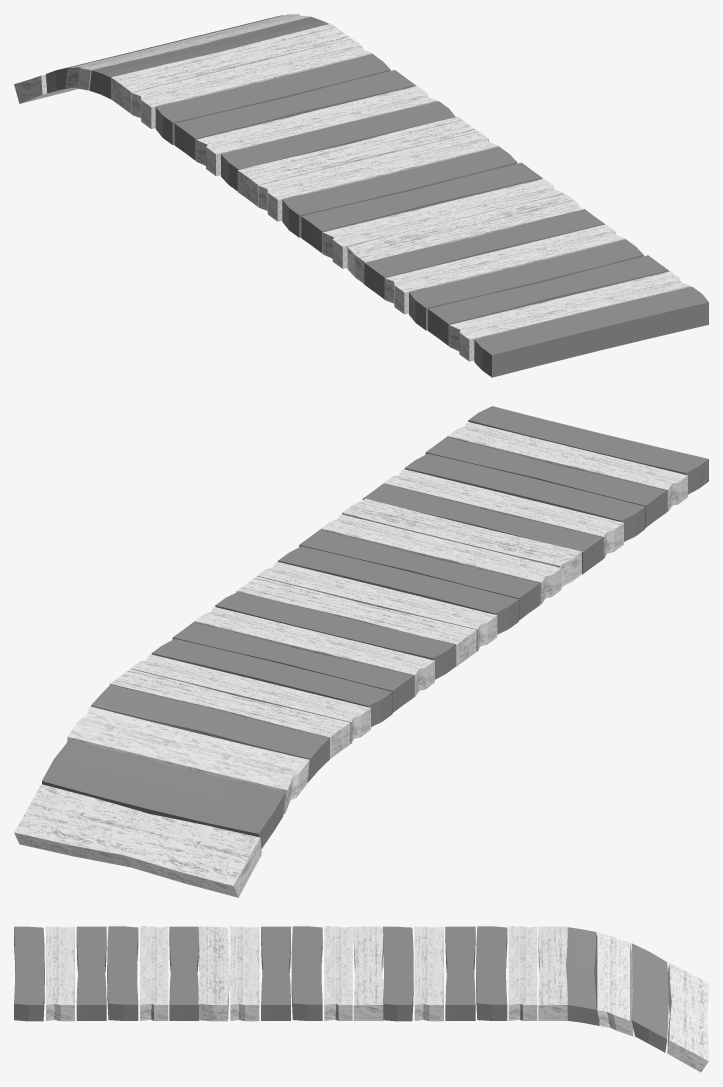
File: qiao1.FBX
The picture shows the model from 3 angles, top to bottom: view 1: azimuth 30°, elevation 25°; view 2: azimuth 150°, elevation 25°; view 3: azimuth 270°, elevation 25°; orthographic projection. The views are drawn at different scales.
Parts seen in each view (by area): view 1: qiao1; view 2: qiao1; view 3: qiao1.
Boxes of the visible parts, x1,y1,x2,y2 form: qiao1: [14, 14, 708, 377]; qiao1: [14, 406, 708, 897]; qiao1: [14, 926, 708, 1072].
Bounding box in the file's own units: 383 × 155 × 1427.
